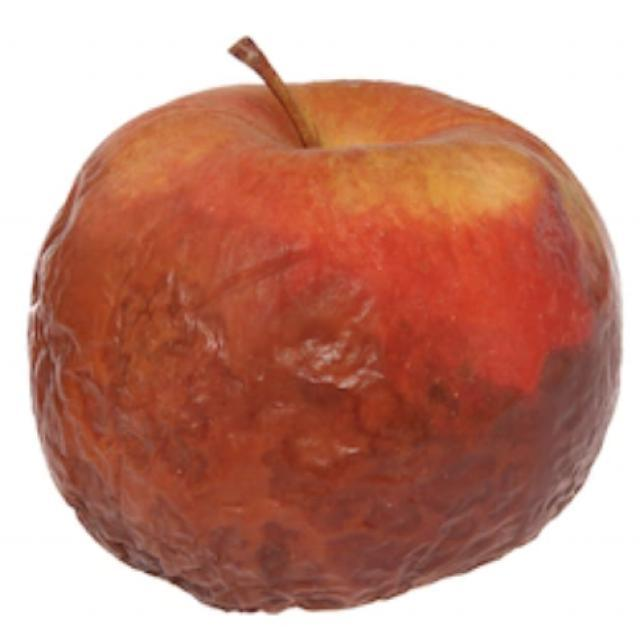Rotten: (34, 95, 614, 603)
